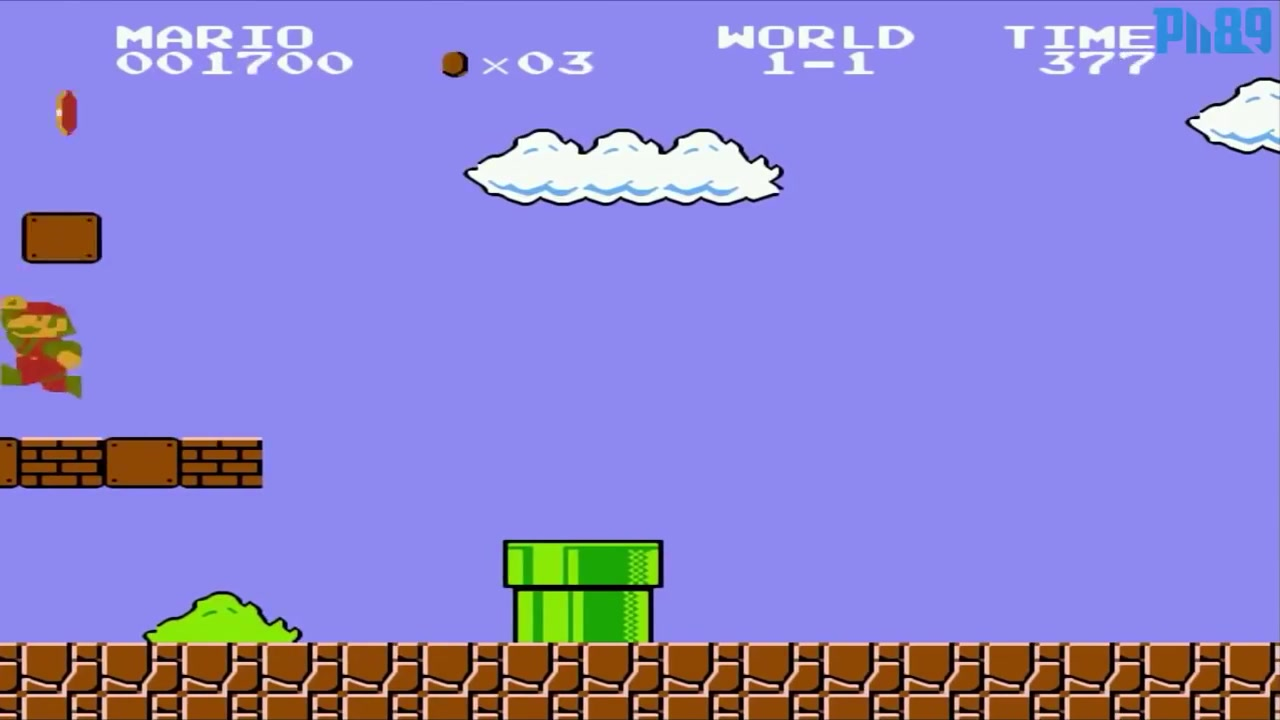mario: (3, 288, 87, 409)
